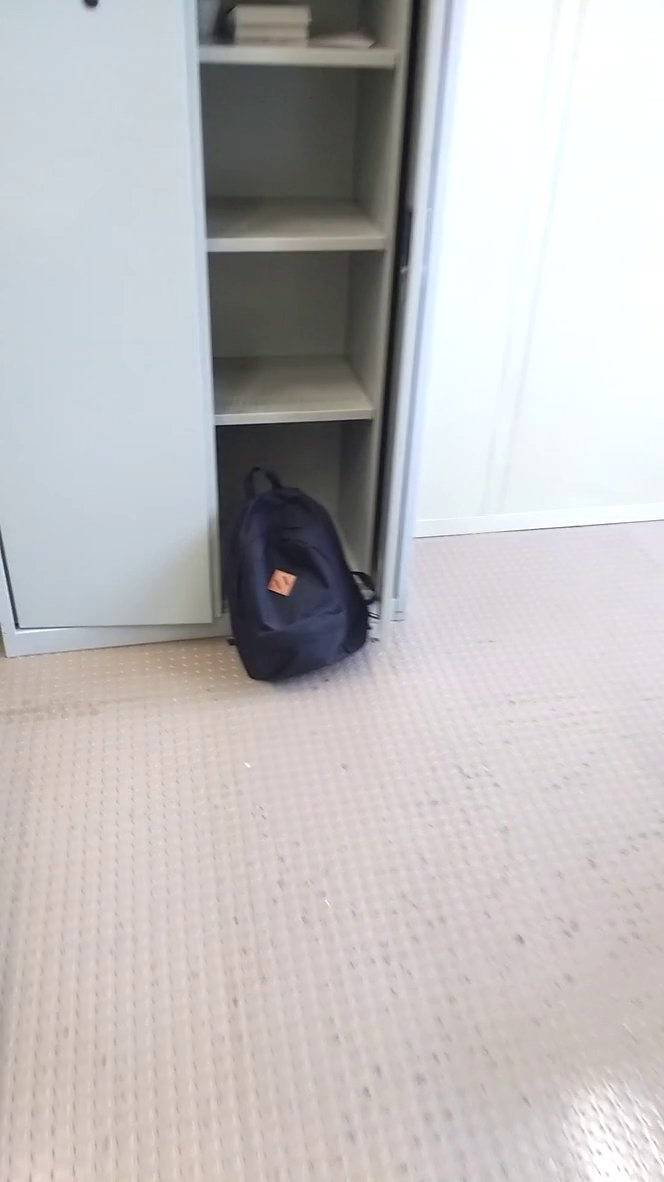bag: (219, 458, 384, 688)
